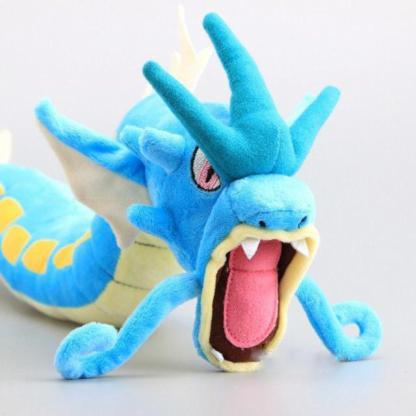Gyarados: (3, 56, 387, 387)
